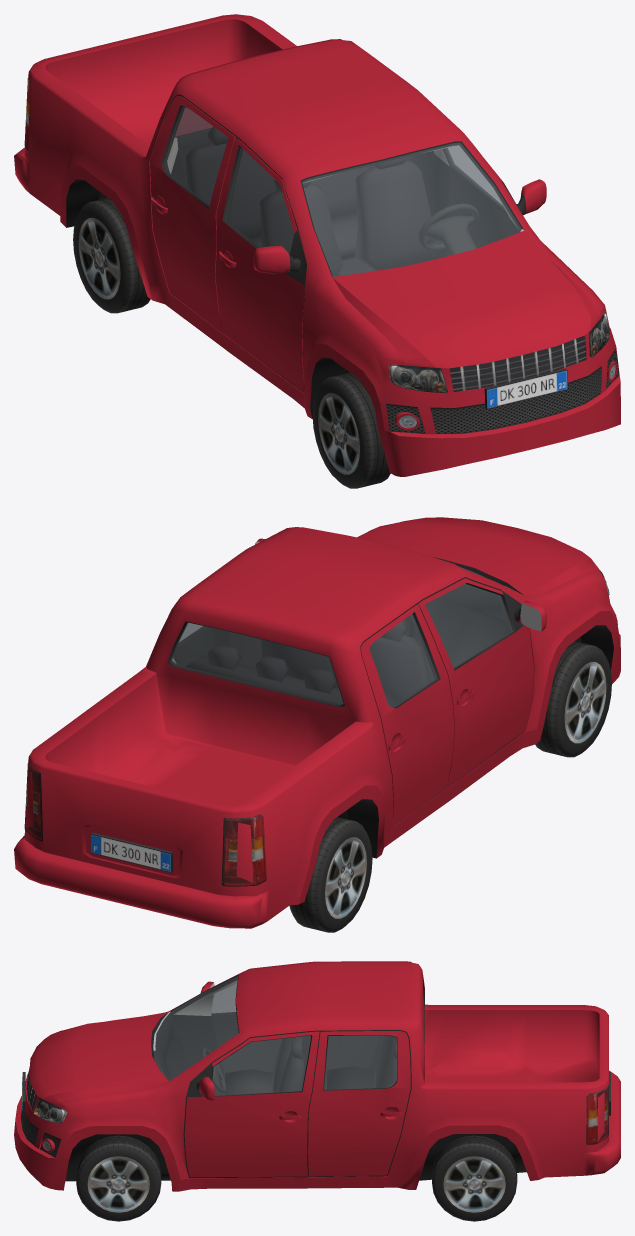
Rendered from sweethome3d-scopia-pickup.glb.
The picture shows the model from 3 angles, top to bottom: view 1: azimuth 30°, elevation 25°; view 2: azimuth 150°, elevation 25°; view 3: azimuth 270°, elevation 25°; orthographic projection. The views are drawn at different scales.
Visible parts, largest first — view 1: Pickup_Cube, Seating_Cube.005, wheels_Cylinder, Interior_Cube.007, SteeringWheel_Torus, HeadLights_Cube.009, LicensePlate_Cube.003, Rearview_Plane.002; view 2: Pickup_Cube, wheels_Cylinder, Seating_Cube.005, Interior_Cube.007, LicensePlate_Cube.003; view 3: Pickup_Cube, wheels_Cylinder, Interior_Cube.007, Seating_Cube.005, HeadLights_Cube.009, Rearview_Plane.002.
Part boxes in pixels (left/top/right/bottom): Pickup_Cube: left=14, top=14, right=620, bottom=476; Seating_Cube.005: left=185, top=126, right=439, bottom=276; wheels_Cylinder: left=73, top=197, right=390, bottom=488; Interior_Cube.007: left=164, top=107, right=521, bottom=276; SteeringWheel_Torus: left=418, top=203, right=478, bottom=254; HeadLights_Cube.009: left=388, top=312, right=609, bottom=393; LicensePlate_Cube.003: left=484, top=368, right=567, bottom=409; Rearview_Plane.002: left=253, top=179, right=546, bottom=274; Pickup_Cube: left=14, top=517, right=620, bottom=928; wheels_Cylinder: left=289, top=641, right=611, bottom=932; Seating_Cube.005: left=186, top=620, right=431, bottom=707; Interior_Cube.007: left=170, top=584, right=512, bottom=707; LicensePlate_Cube.003: left=90, top=832, right=173, bottom=872; Pickup_Cube: left=14, top=961, right=620, bottom=1191; wheels_Cylinder: left=76, top=1135, right=517, bottom=1221; Interior_Cube.007: left=153, top=976, right=423, bottom=1095; Seating_Cube.005: left=225, top=1035, right=396, bottom=1095; HeadLights_Cube.009: left=33, top=1098, right=67, bottom=1122; Rearview_Plane.002: left=196, top=981, right=214, bottom=1100.
Size of the model in its own units: 215 by 181 by 524.
26 materials, 8 textured.
